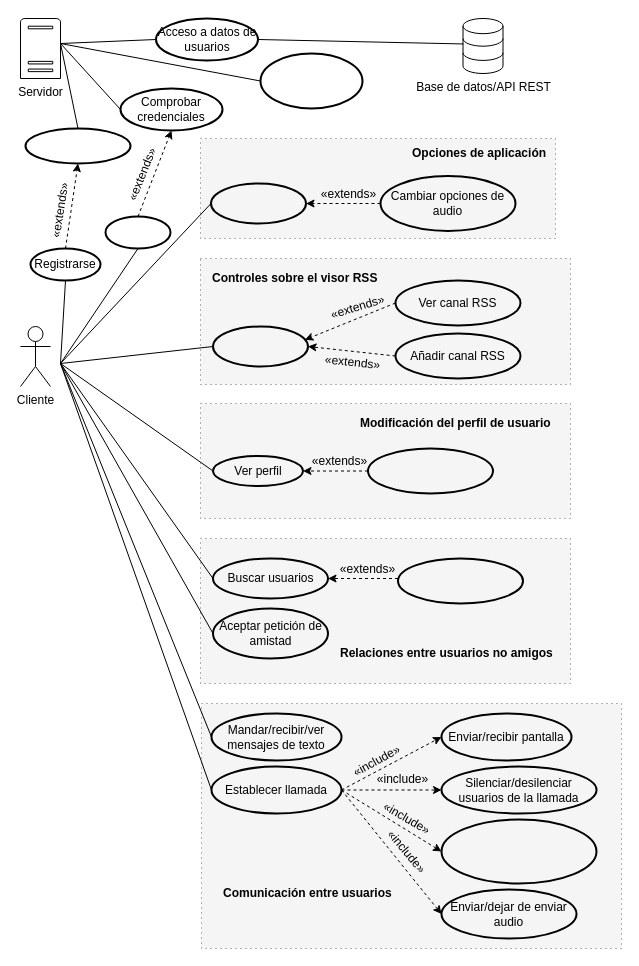
Some shapes in this 639 by 966 pixel diagram are drawn without their labels. The shapes that lost their labels are listed below. From the top down, each one's box as (x1, y1, x2, y2) in pixels, then its label:
(259, 52, 363, 109): Obtener información del usuario
(24, 127, 131, 164): Comprobar datos
(210, 182, 306, 224): Ver opciones
(104, 215, 171, 249): Entrar
(212, 325, 308, 367): Ver página principal
(366, 447, 494, 494): Cambiar imagen de perfil
(396, 557, 524, 604): Mandar petición de amistad
(440, 818, 597, 884): Recibir/dejar de recibir vídeo de usuarios de la llamada
